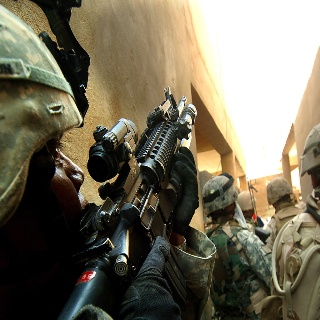rifle: (55, 86, 198, 320)
